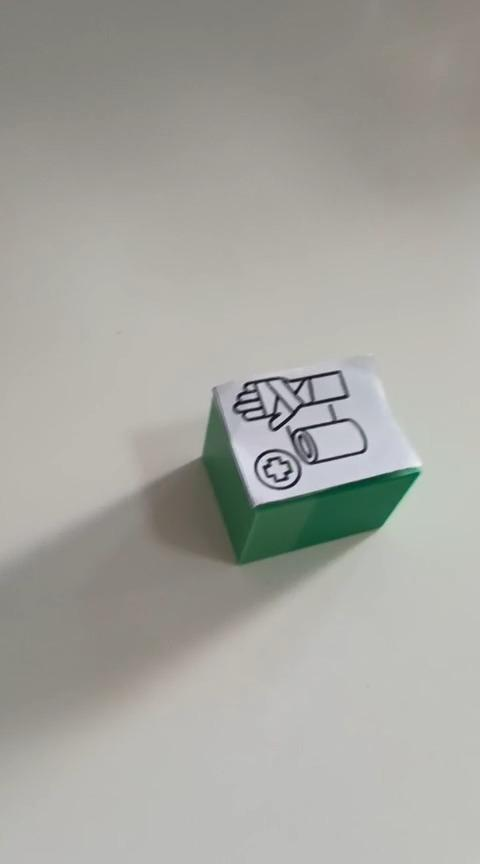Bandages: (200, 352, 422, 564)
